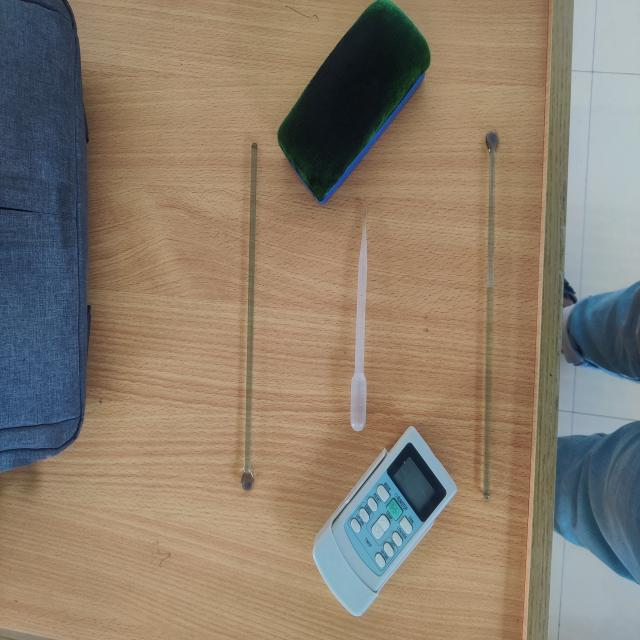Glass_Rod: (216, 111, 284, 518), (458, 103, 525, 516)
Pipette: (327, 180, 398, 444)
